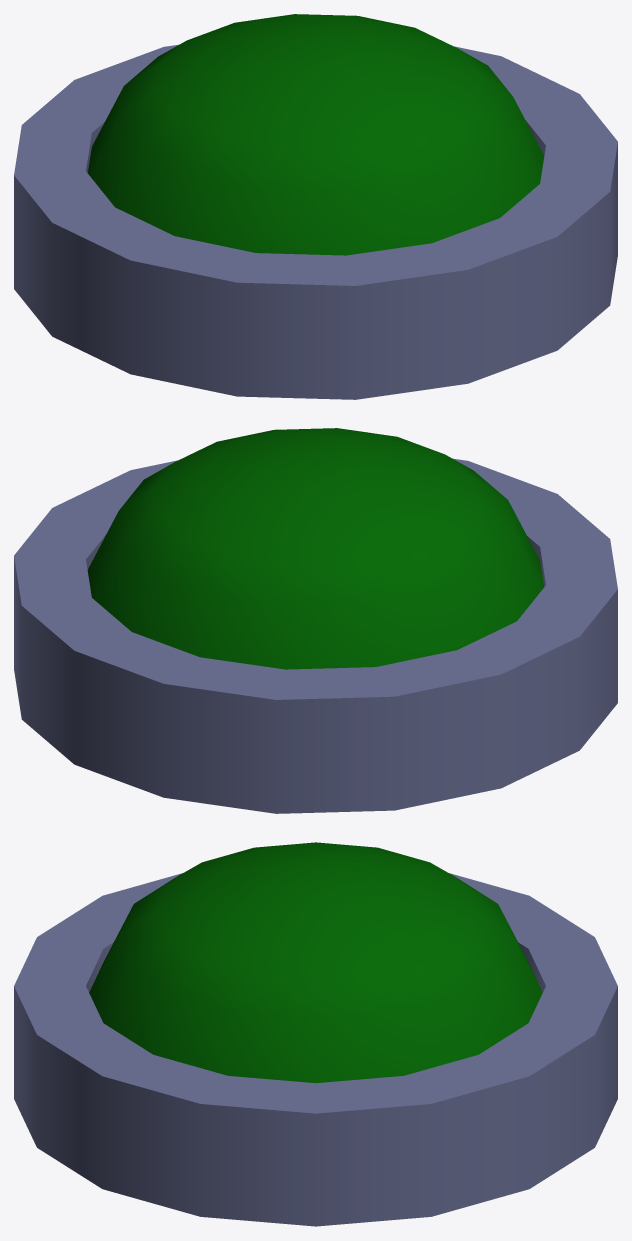
Rendered from LED_Object.fbx.
3 renders of one model, top to bottom at view 1: azimuth 30°, elevation 25°; view 2: azimuth 150°, elevation 25°; view 3: azimuth 270°, elevation 25°, orthographic.
Parts seen in each view (by area): view 1: Cylinder; view 2: Cylinder; view 3: Cylinder.
Boxes of the visible parts, x1,y1,x2,y2 form: Cylinder: [14, 14, 617, 399]; Cylinder: [14, 428, 617, 813]; Cylinder: [14, 842, 617, 1226].
Size of the model in its own units: 49.67 by 20.49 by 49.67.
